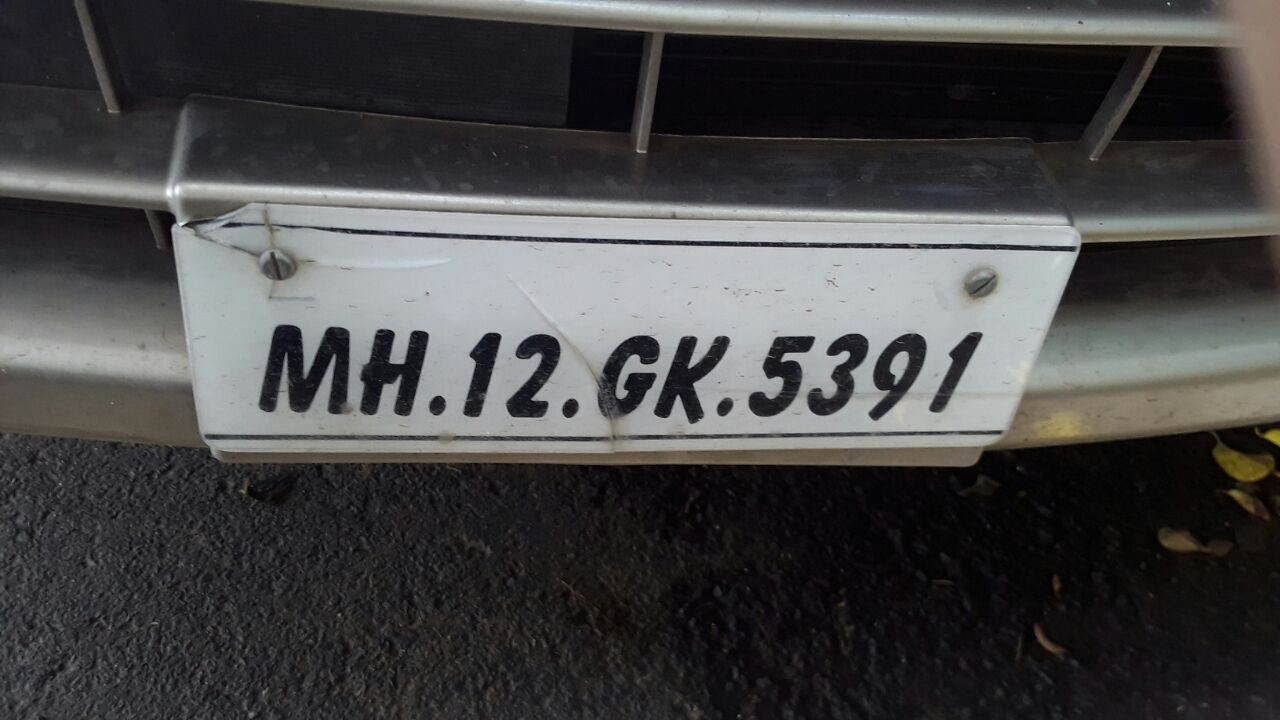licenseplate: (173, 183, 1088, 470)
